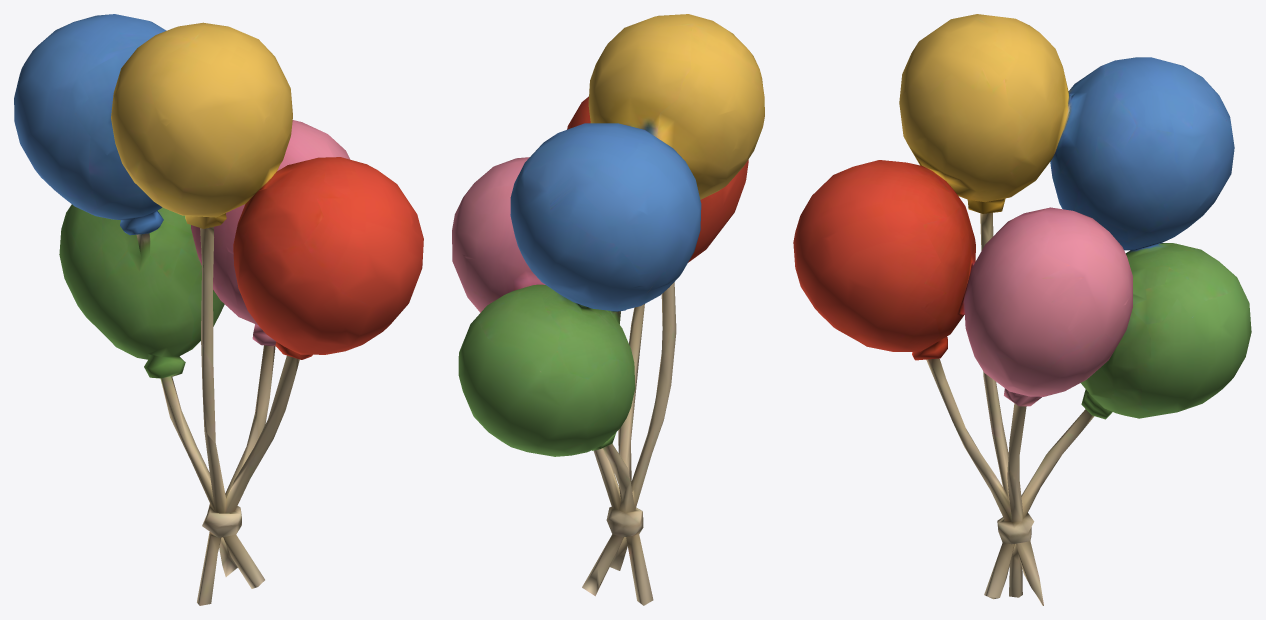
The model's file is toy-balloons.glb.
3 views of the same model, side by side, from view 1: azimuth 30°, elevation 25°; view 2: azimuth 150°, elevation 25°; view 3: azimuth 270°, elevation 25° (orthographic). The views are drawn at different scales.
Visible parts, largest first — view 1: tripo_node_0f15e7fa-dc7c-45ed-a012-6413b73f0fb3; view 2: tripo_node_0f15e7fa-dc7c-45ed-a012-6413b73f0fb3; view 3: tripo_node_0f15e7fa-dc7c-45ed-a012-6413b73f0fb3.
Part boxes in pixels (x1,y1,x2,y2): tripo_node_0f15e7fa-dc7c-45ed-a012-6413b73f0fb3: [14, 14, 423, 605]; tripo_node_0f15e7fa-dc7c-45ed-a012-6413b73f0fb3: [452, 14, 764, 605]; tripo_node_0f15e7fa-dc7c-45ed-a012-6413b73f0fb3: [793, 14, 1251, 605].
Bounding box in the file's own units: 0.5039 × 1 × 0.7365.
Materials: 1 (1 with a texture image).
